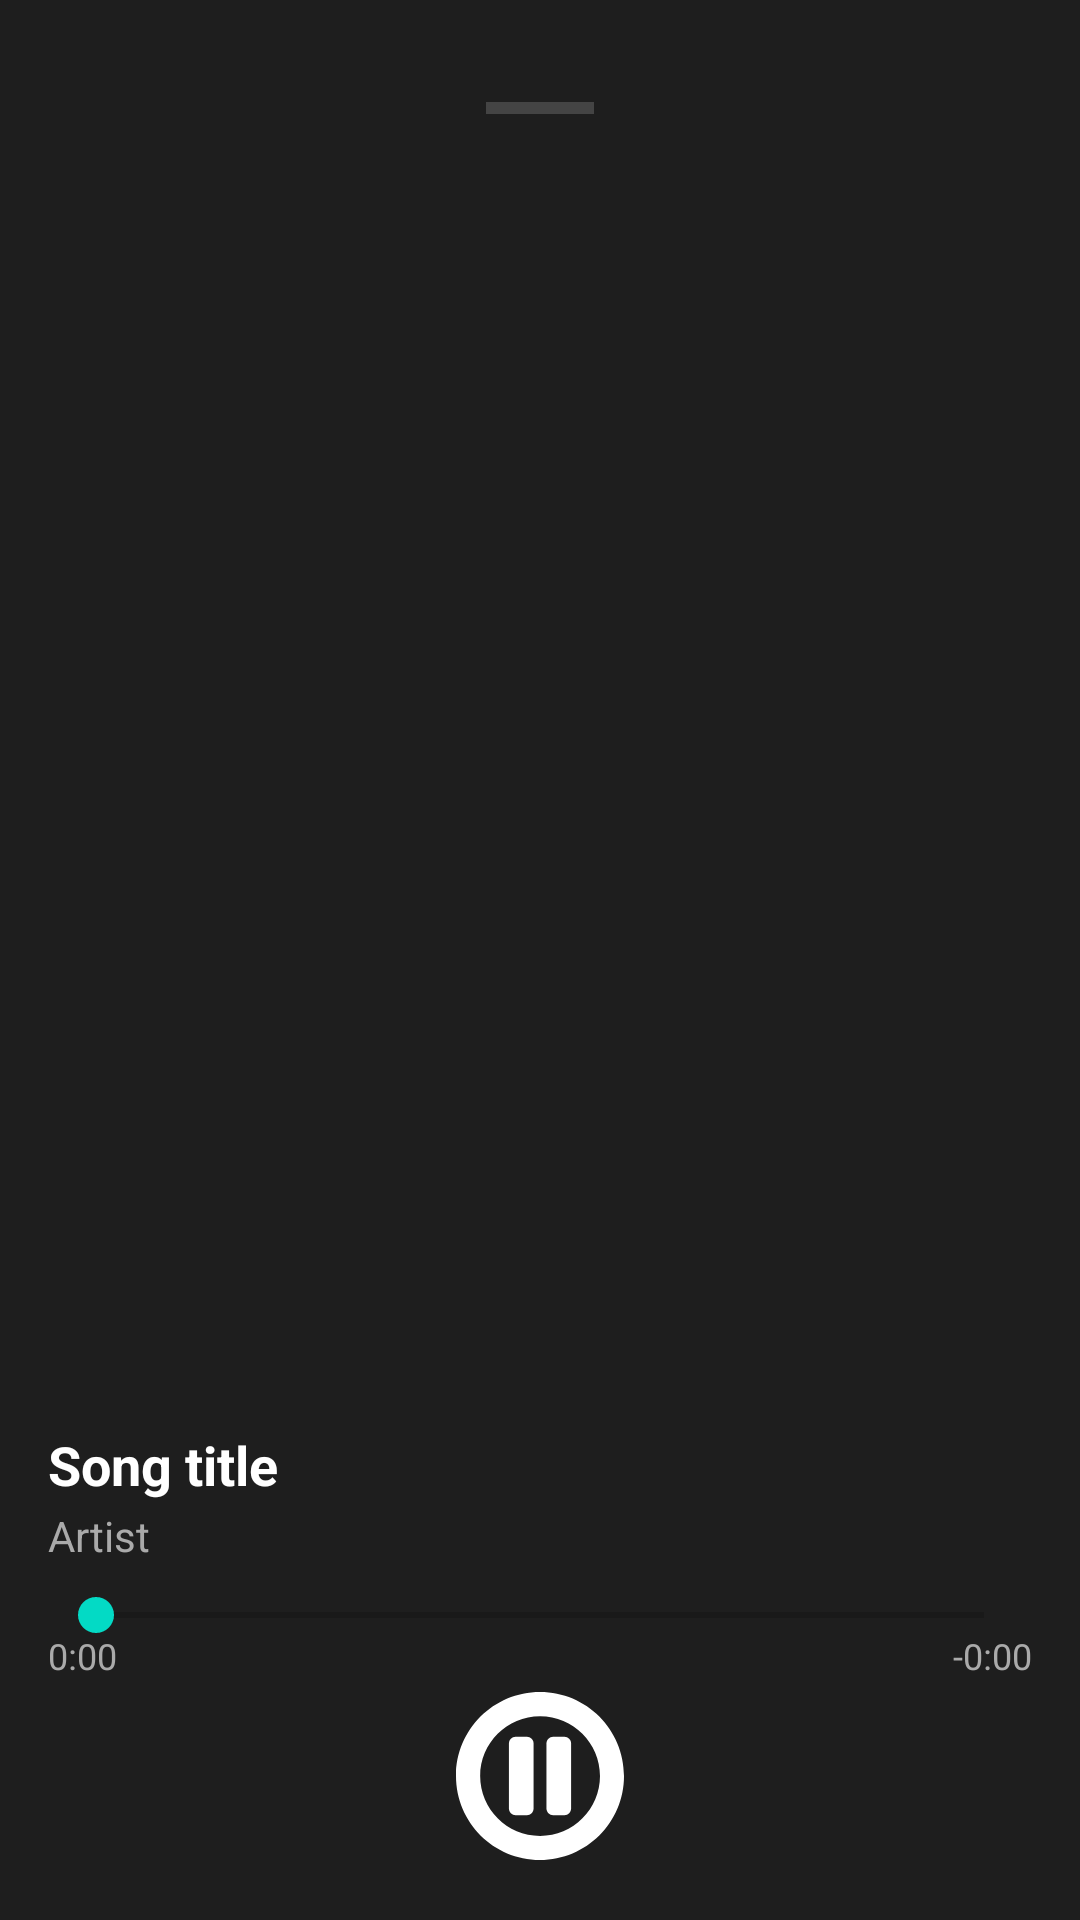

Named icons in this screenshot (1080 x 1920) and their centers, (x,y):
pause: (540,1776)
